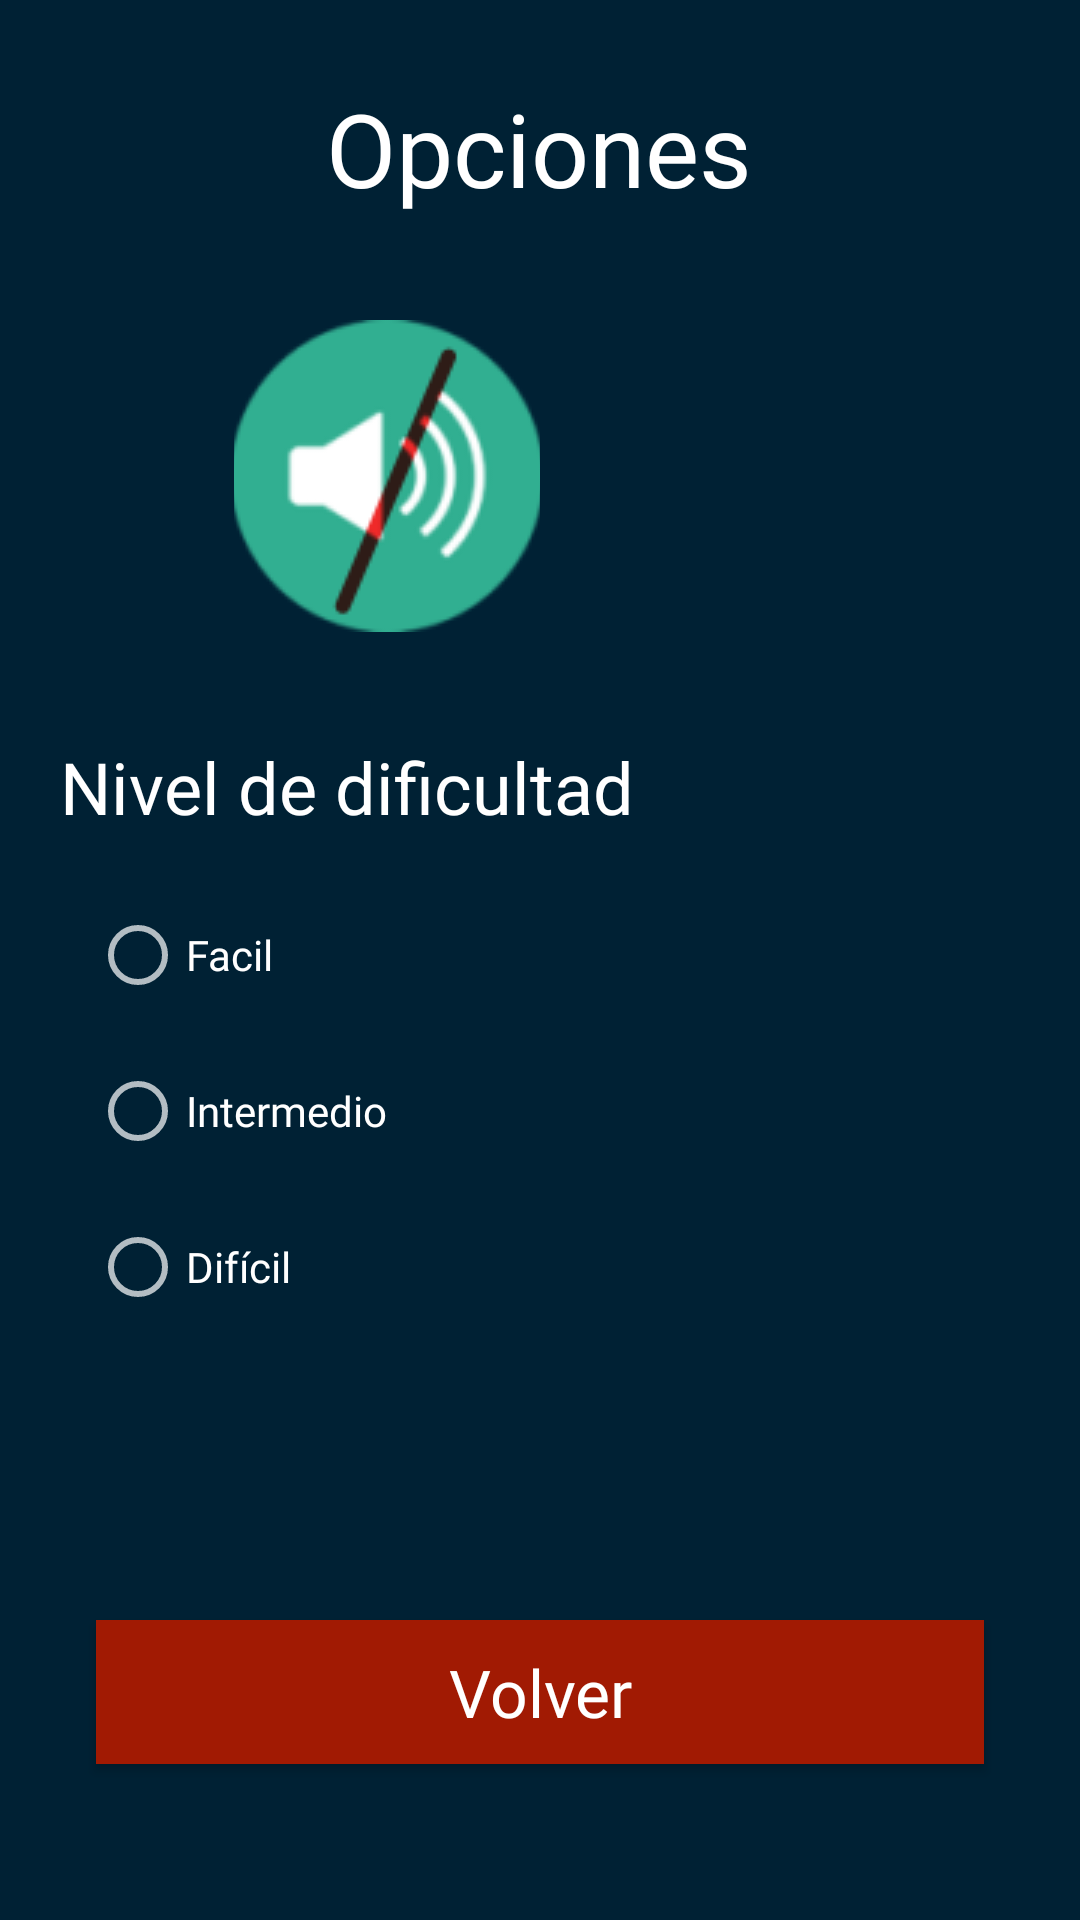

Screen size 1080 x 1920. Icon name, then its box in pixels as (x1, y1, x2, y2):
sinsonido: (234, 320, 540, 632)
